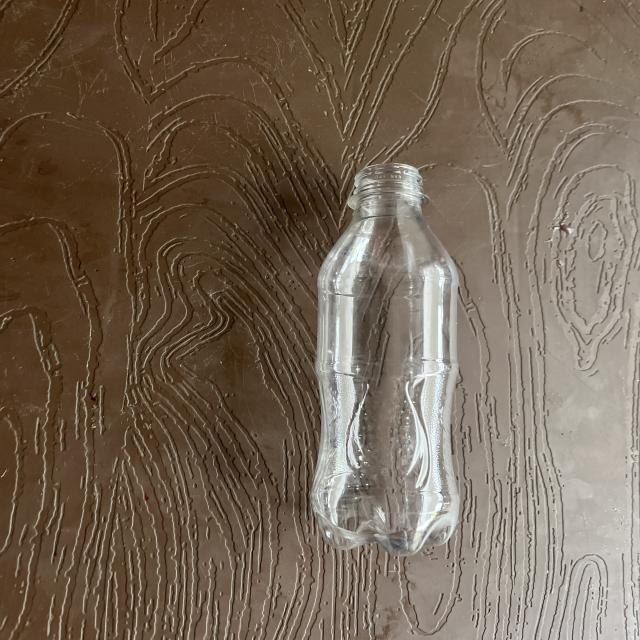PET_ClearBottle: (306, 162, 530, 555)
